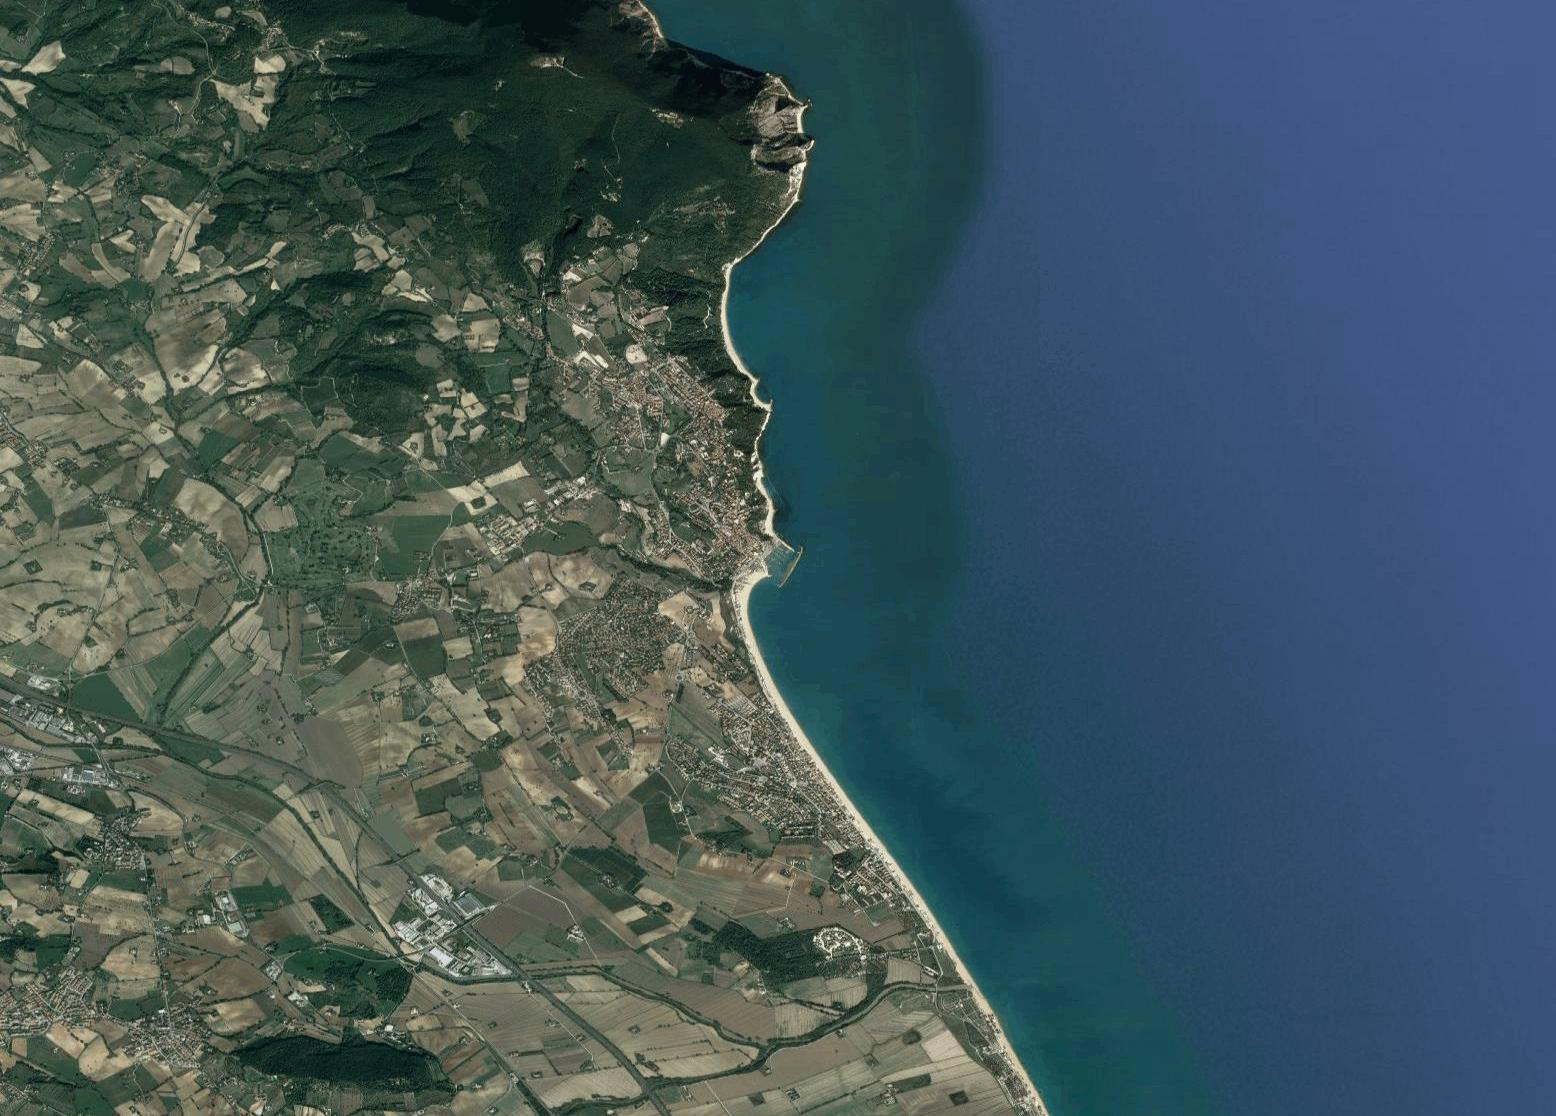harbor: (757, 535, 809, 589)
industrial: (397, 905, 484, 976)
